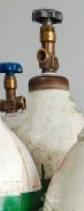cylinder: (1, 1, 84, 211)
